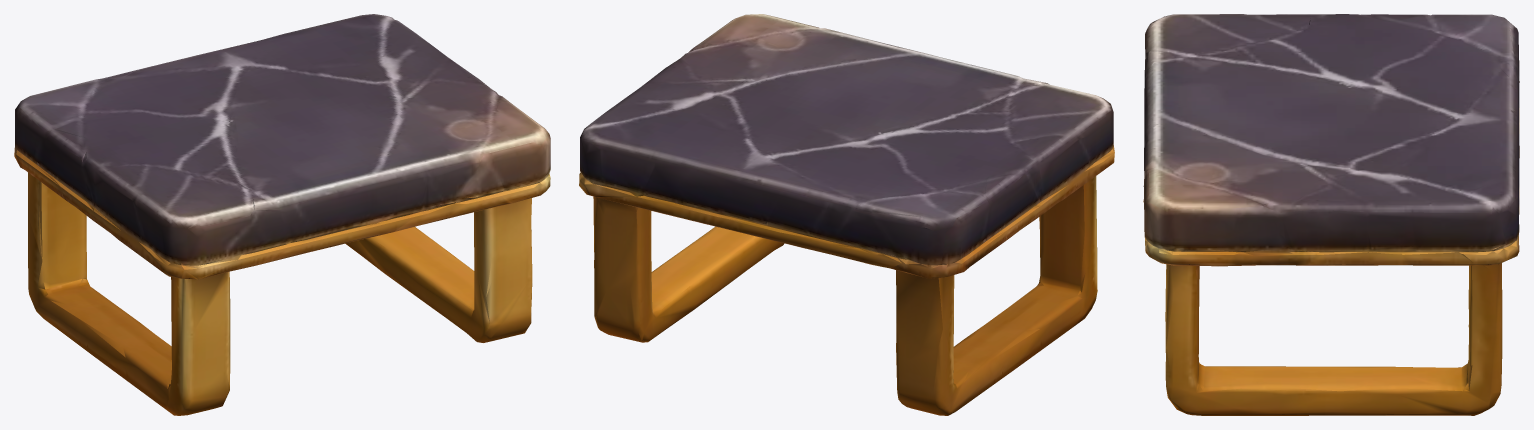
Rendered from table17.glb.
3 views of the same model, side by side, from view 1: azimuth 30°, elevation 25°; view 2: azimuth 150°, elevation 25°; view 3: azimuth 270°, elevation 25° (orthographic). The views are drawn at different scales.
Bounding box in the file's own units: 0.2127 × 0.1114 × 0.1712.
Materials: 1 (1 with a texture image).
